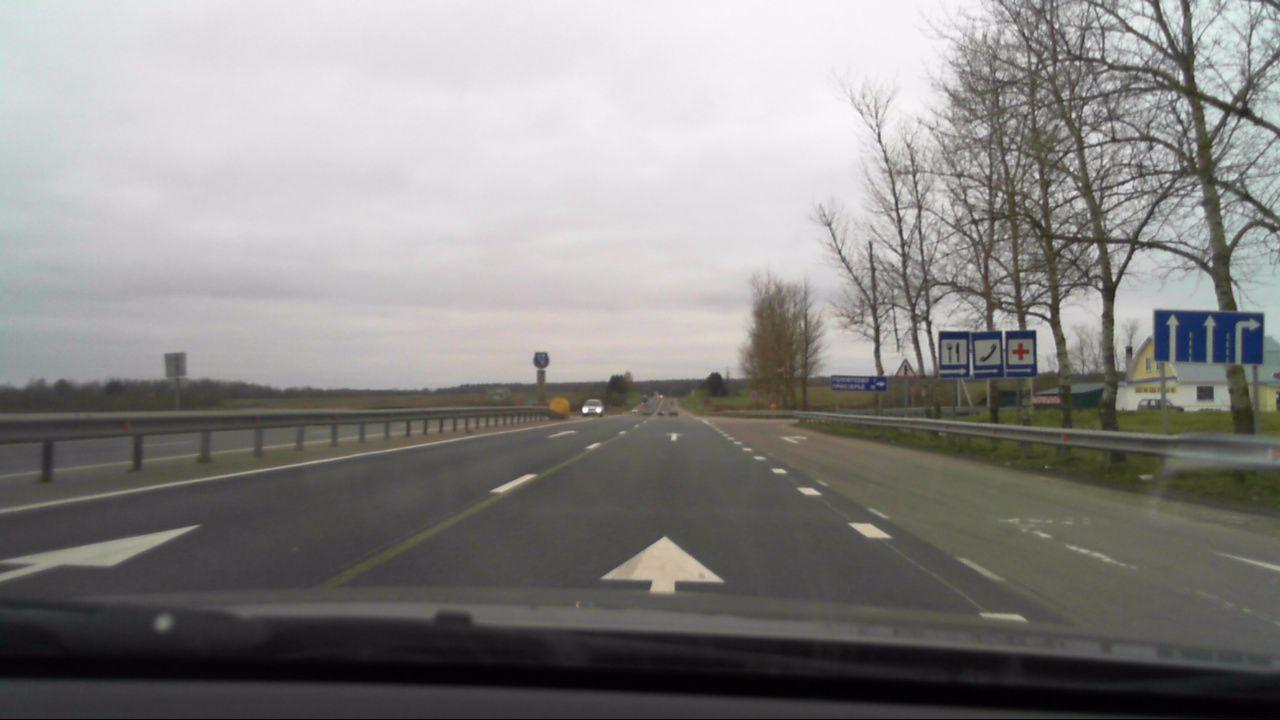2_3_2: (893, 359, 918, 381)
5_15_1: (1154, 310, 1265, 364)
5_15_4: (532, 348, 554, 371)
6_10_1: (827, 375, 888, 394)
7_1: (1006, 331, 1035, 377)
7_6: (972, 330, 1006, 377)
7_7: (937, 330, 970, 375)
